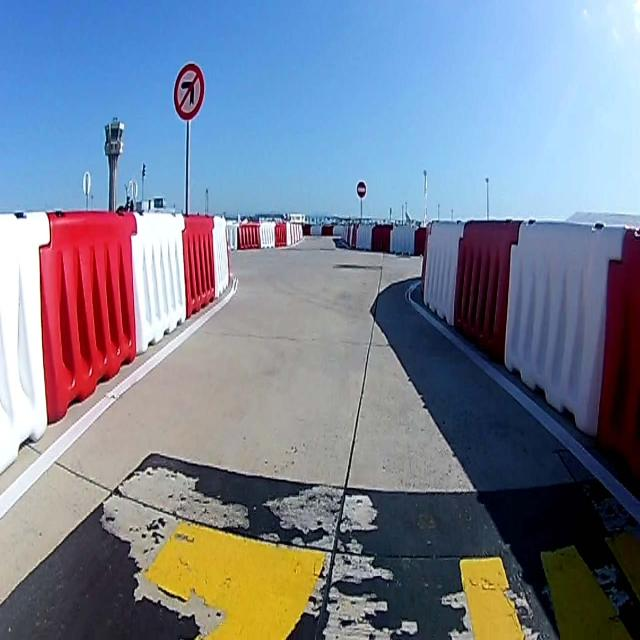girisyok: (357, 181, 366, 199)
soladonulmez: (174, 61, 203, 120)
